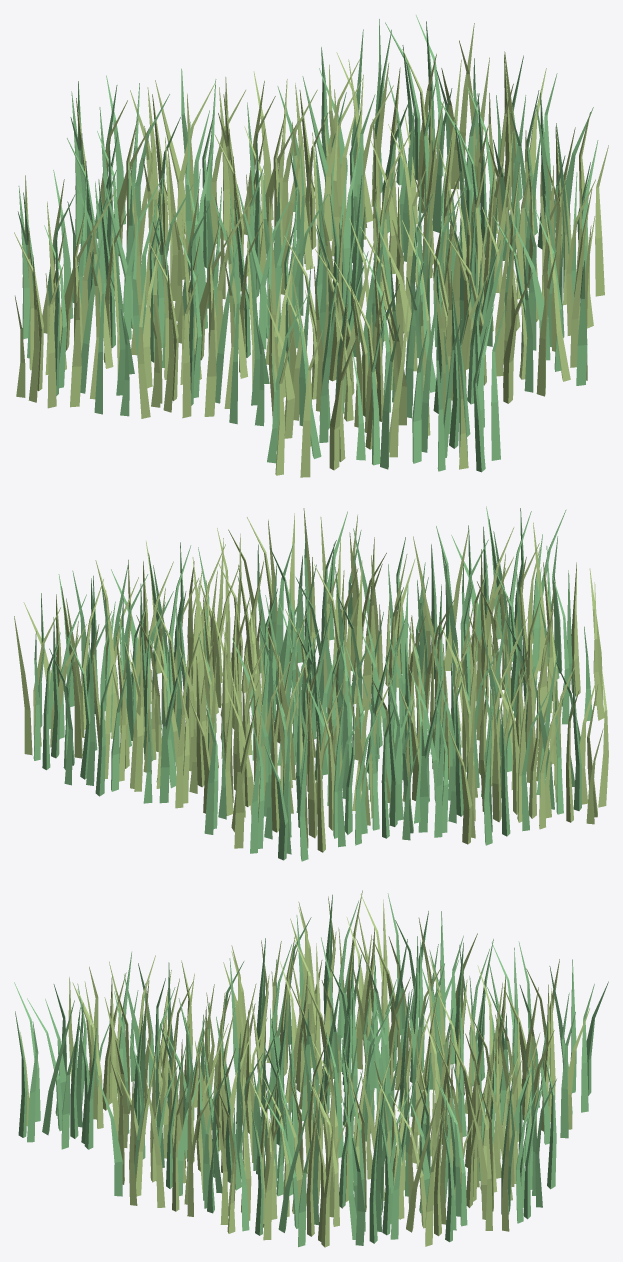
The model's file is Grass.gltf.
3 renders of one model, top to bottom at view 1: azimuth 30°, elevation 25°; view 2: azimuth 150°, elevation 25°; view 3: azimuth 270°, elevation 25°, orthographic. The views are drawn at different scales.
Visible parts, largest first — view 1: Node; view 2: Node; view 3: Node.
Part boxes in pixels (bbox=[...]): Node: bbox=[14, 15, 608, 477]; Node: bbox=[14, 506, 608, 861]; Node: bbox=[14, 890, 608, 1247].
Size of the model in its own units: 2.78 by 0.8967 by 2.84.
